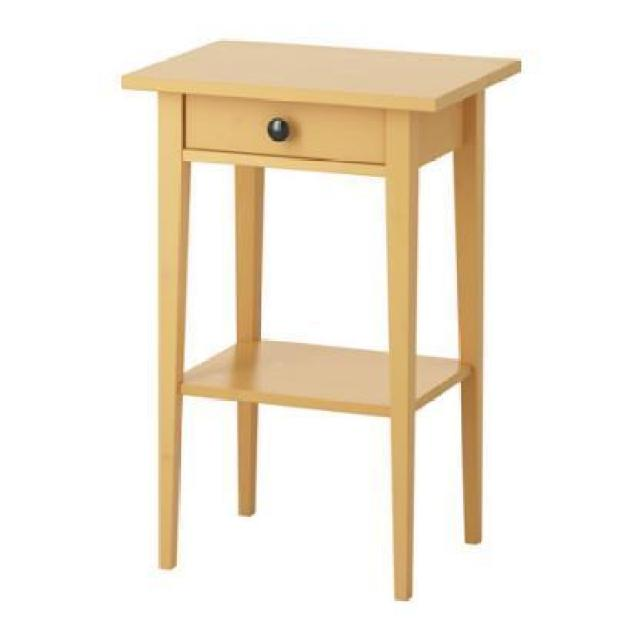tables: (120, 37, 522, 600)
